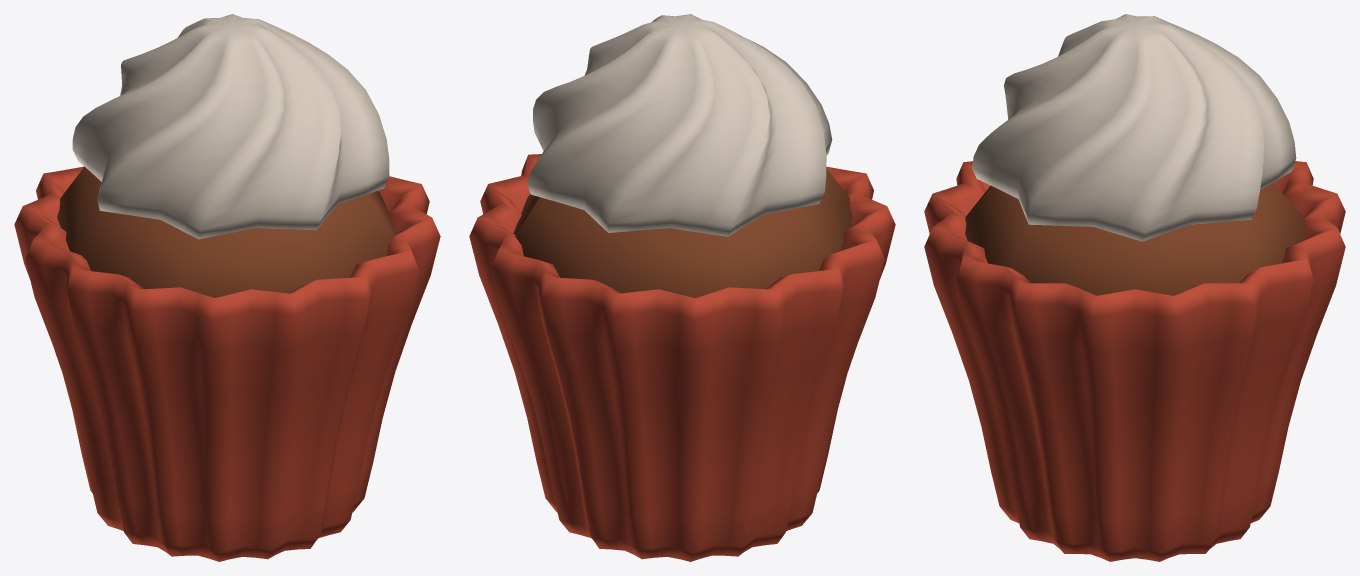
The model's file is SM_muffin_05.fbx.
3 renders of one model, left to right at view 1: azimuth 30°, elevation 25°; view 2: azimuth 150°, elevation 25°; view 3: azimuth 270°, elevation 25°, orthographic.
Parts seen in each view (by area): view 1: SM_muffin_05; view 2: SM_muffin_05; view 3: SM_muffin_05.
Boxes of the visible parts, x1,y1,x2,y2 form: SM_muffin_05: (14, 14, 440, 561); SM_muffin_05: (469, 14, 895, 561); SM_muffin_05: (924, 14, 1345, 561).
Size of the model in its own units: 13.35 by 17.06 by 13.35.
Materials: 1 (1 with a texture image).
